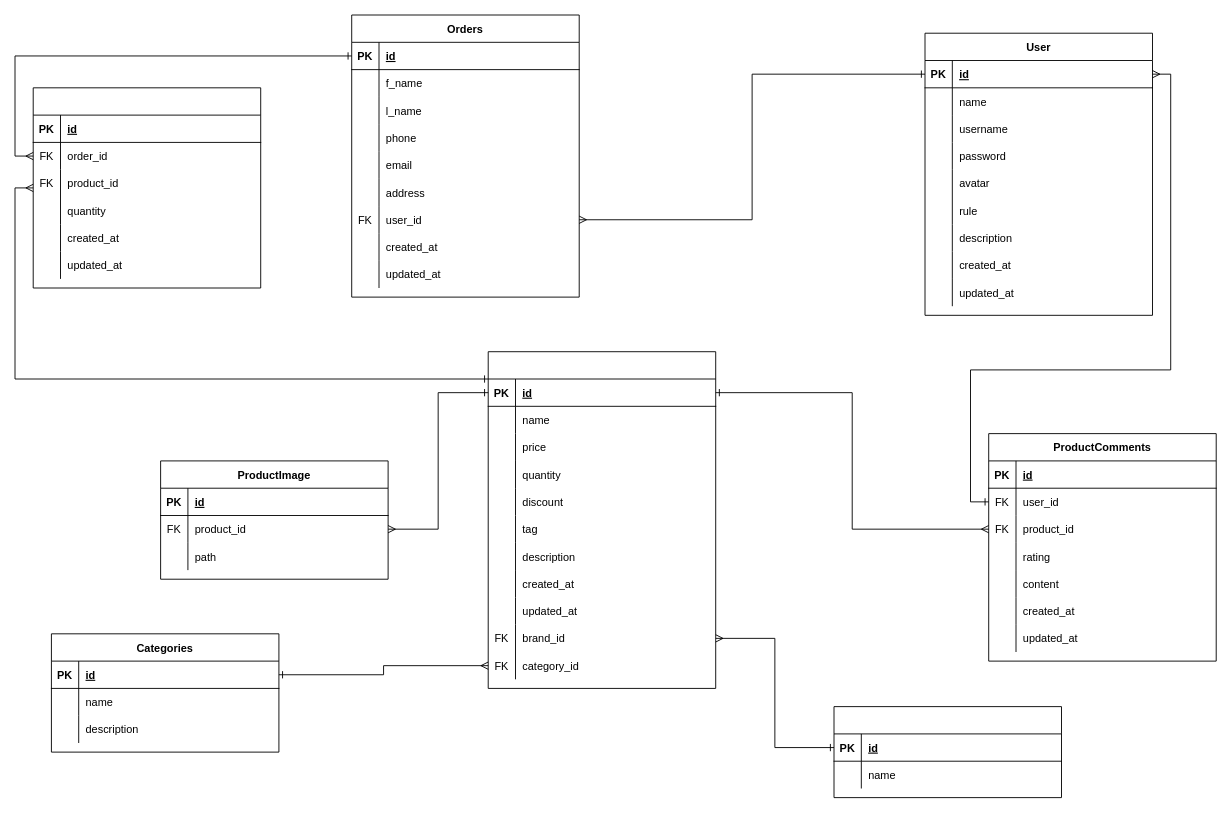
Some shapes in this 1231 by 813 pixel diagram are drawn without their labels. Here are the shapes that lost their labels. From the top down, the box of each, then its label:
(32, 87, 261, 288): OrderDetail
(487, 351, 716, 688): Products
(833, 706, 1062, 798): Brands
